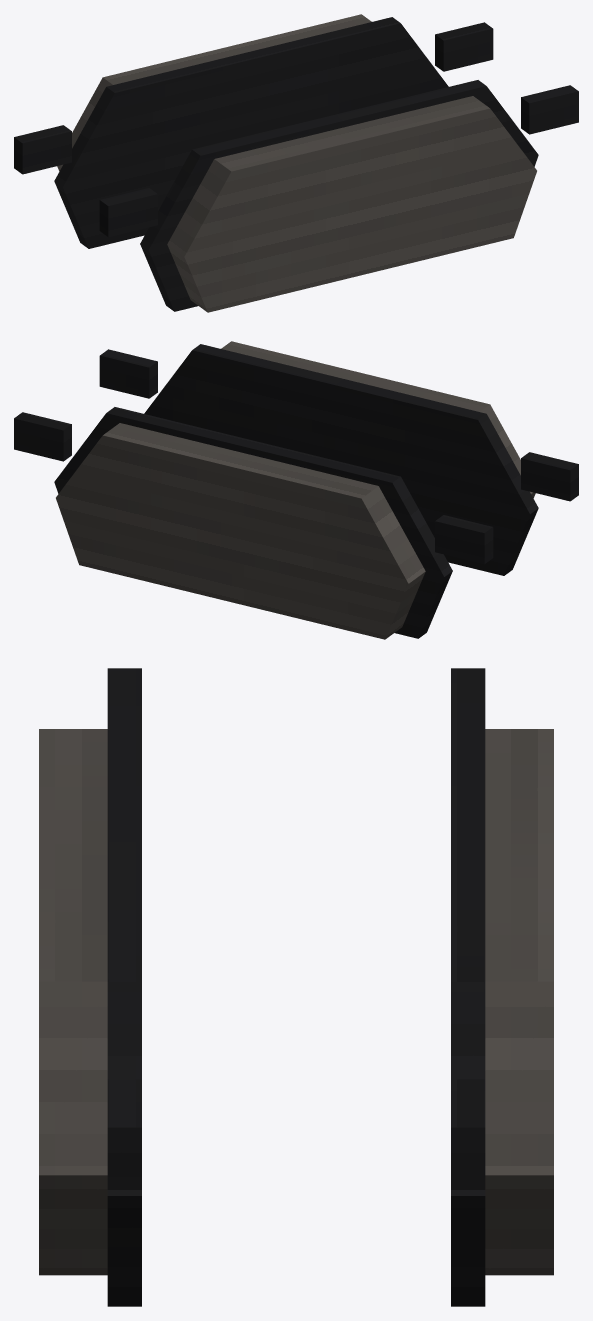
File: pastilhas_fabrica.glb
3 views of the same model, one above another, from view 1: azimuth 30°, elevation 25°; view 2: azimuth 150°, elevation 25°; view 3: azimuth 270°, elevation 25° (orthographic). The views are drawn at different scales.
Visible parts, largest first — view 1: pastilhas_fabrica; view 2: pastilhas_fabrica; view 3: pastilhas_fabrica.
Boxes of the visible parts, x1,y1,x2,y2 form: pastilhas_fabrica: [14, 14, 578, 312]; pastilhas_fabrica: [14, 341, 578, 639]; pastilhas_fabrica: [39, 668, 553, 1306].
Size of the model in its own units: 0.19 by 0.0577 by 0.09.
Materials: 1 (1 with a texture image).
